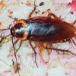cockroach: (9, 14, 76, 46)
